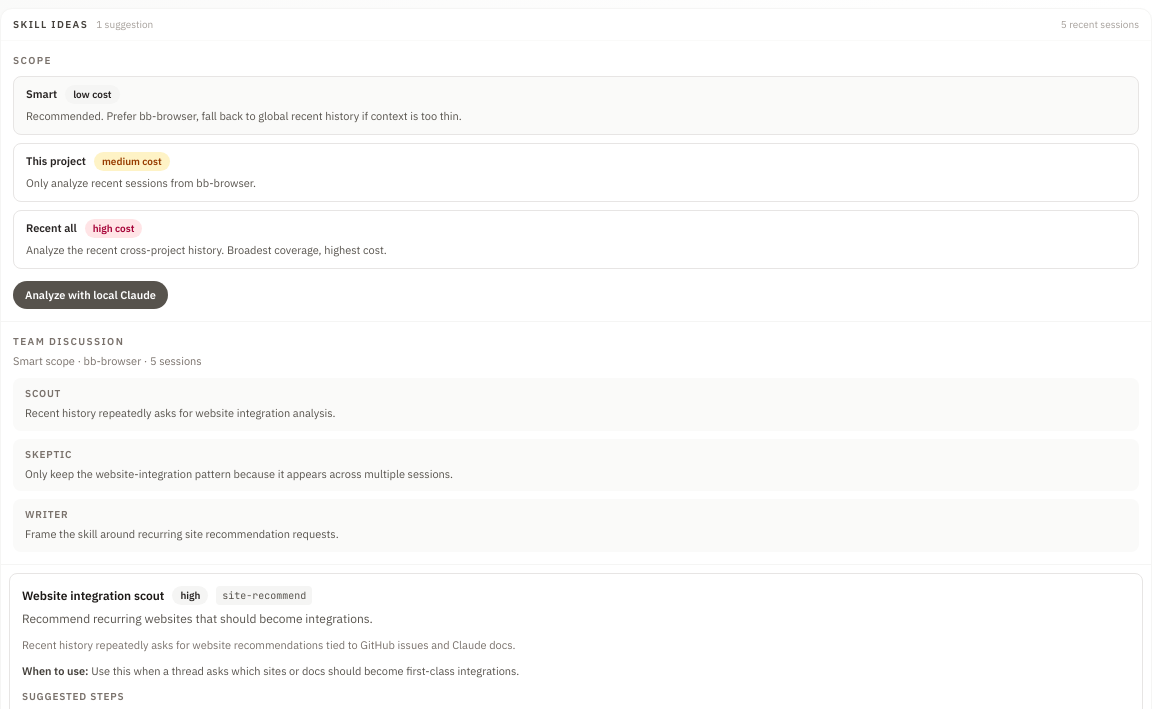
Test: SkillRecommendationsPanel › hides stale results when the selected scope no longer matches the last run
This screenshot has width=1152, height=709.
Click the button "Recent all".
click(51, 228)  # box top-left (13, 210), bottom-right (1139, 269)
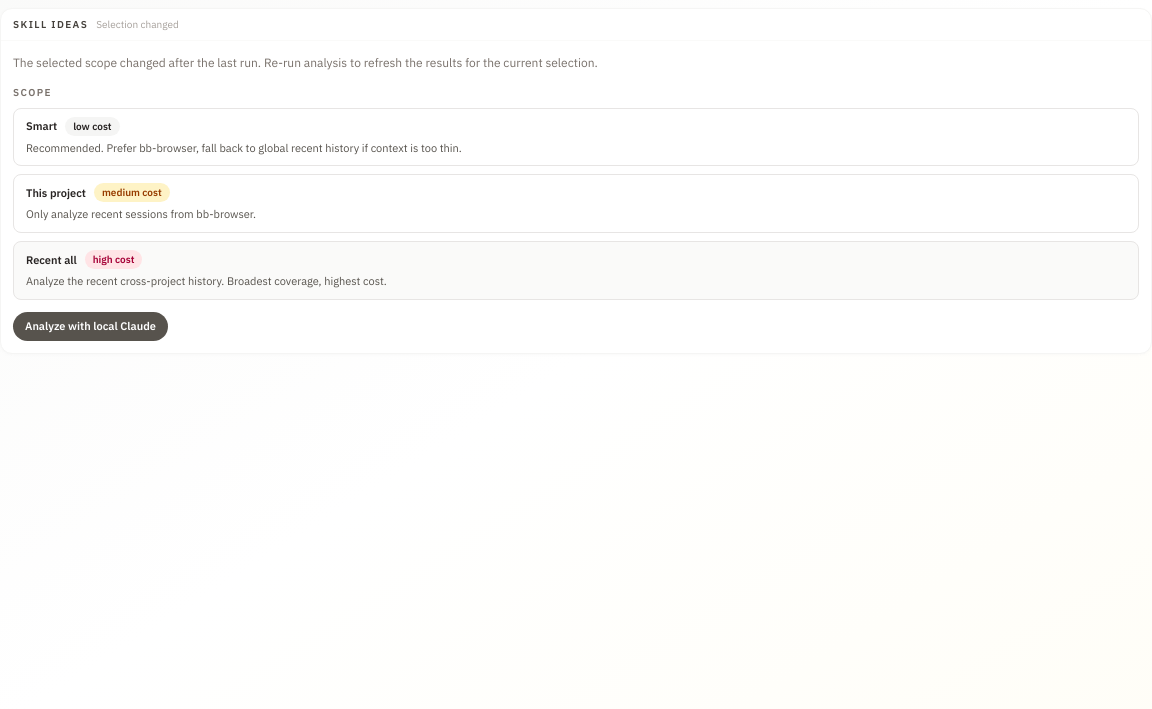
Result: the text "Selection changed" is shown at top-left (96, 17), bottom-right (179, 32)
Result: the text "Re-run analysis to refresh the results" is shown at top-left (13, 55), bottom-right (598, 70)
Result: the text "Team discussion" is gone
